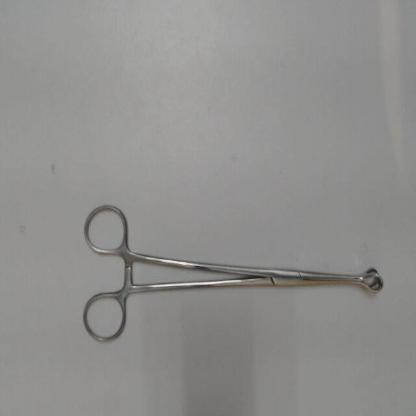8 Babcock Tissue Forceps: (77, 198, 390, 351)
